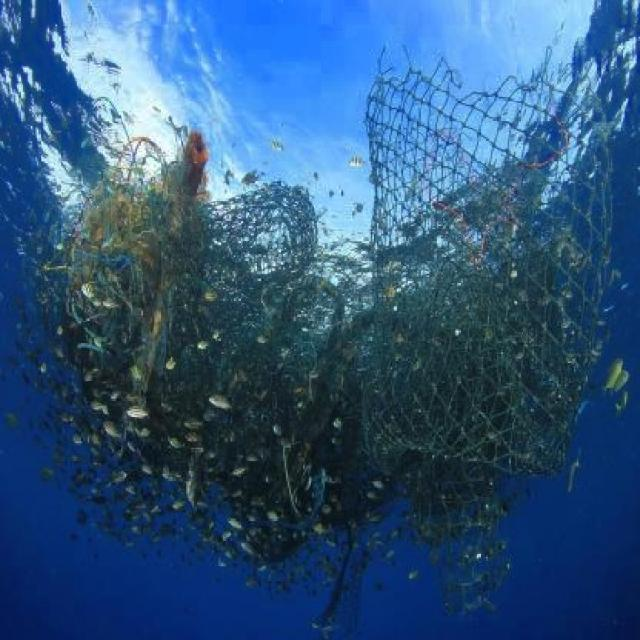net: (108, 89, 604, 493)
